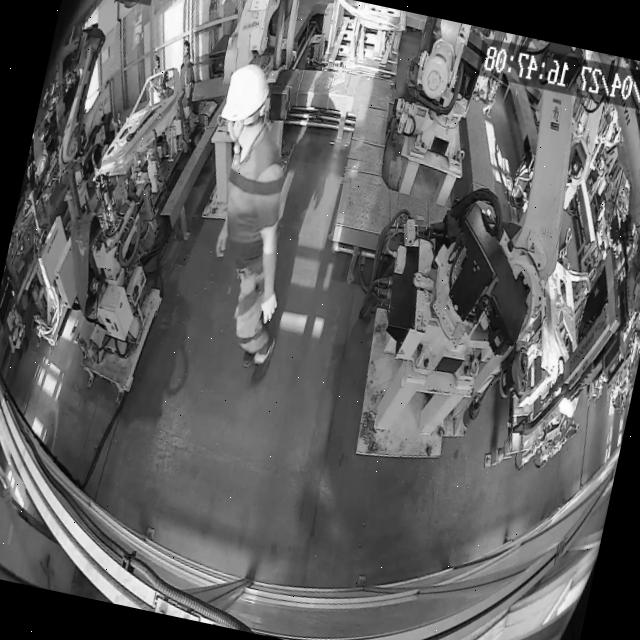Person: (166, 58, 332, 386)
